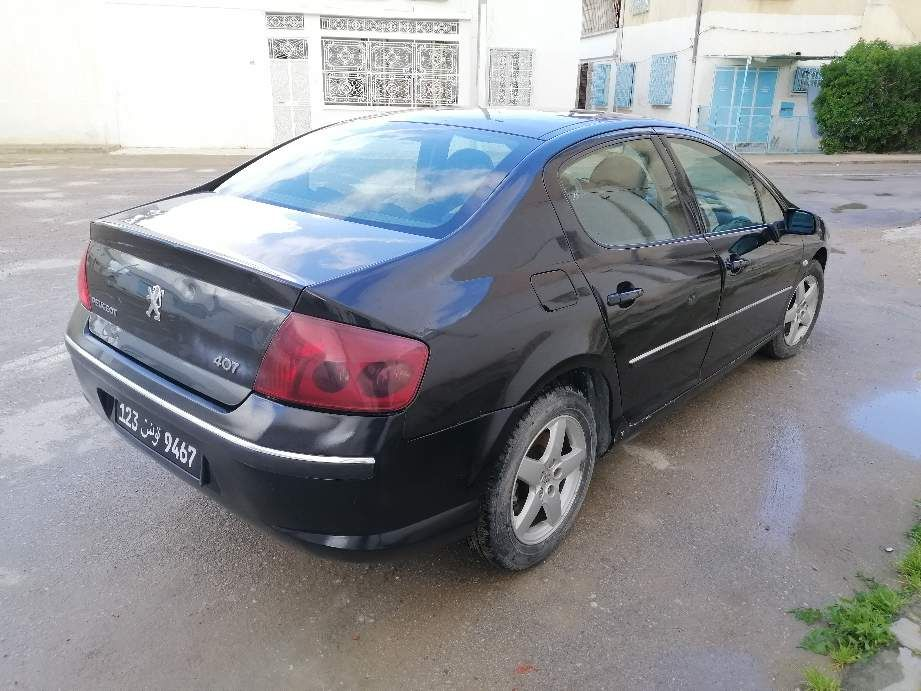LP: (113, 397, 203, 480)
